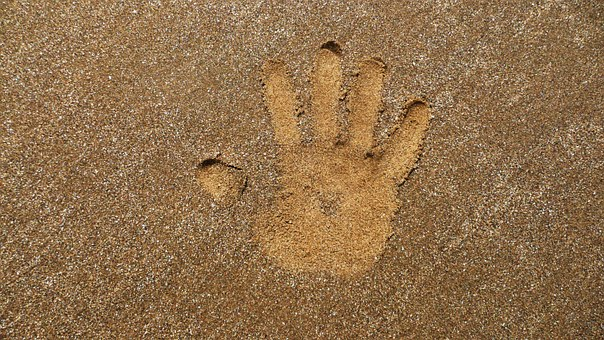palm: (266, 149, 394, 269)
